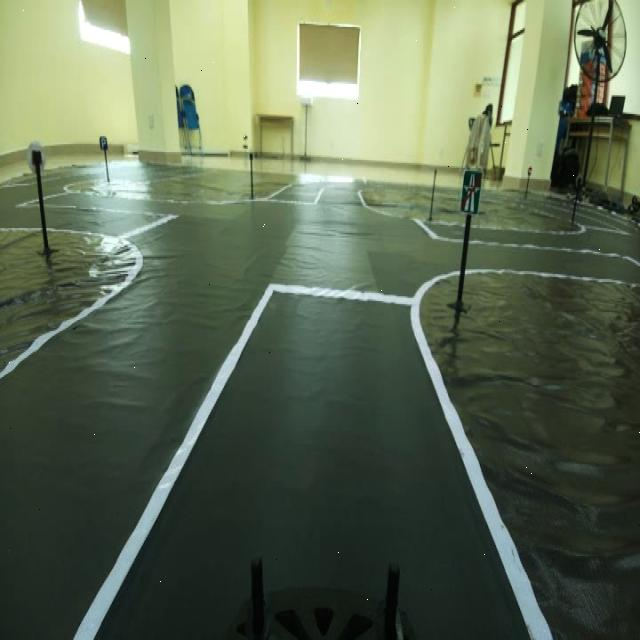highway_exit: (457, 163, 485, 220)
